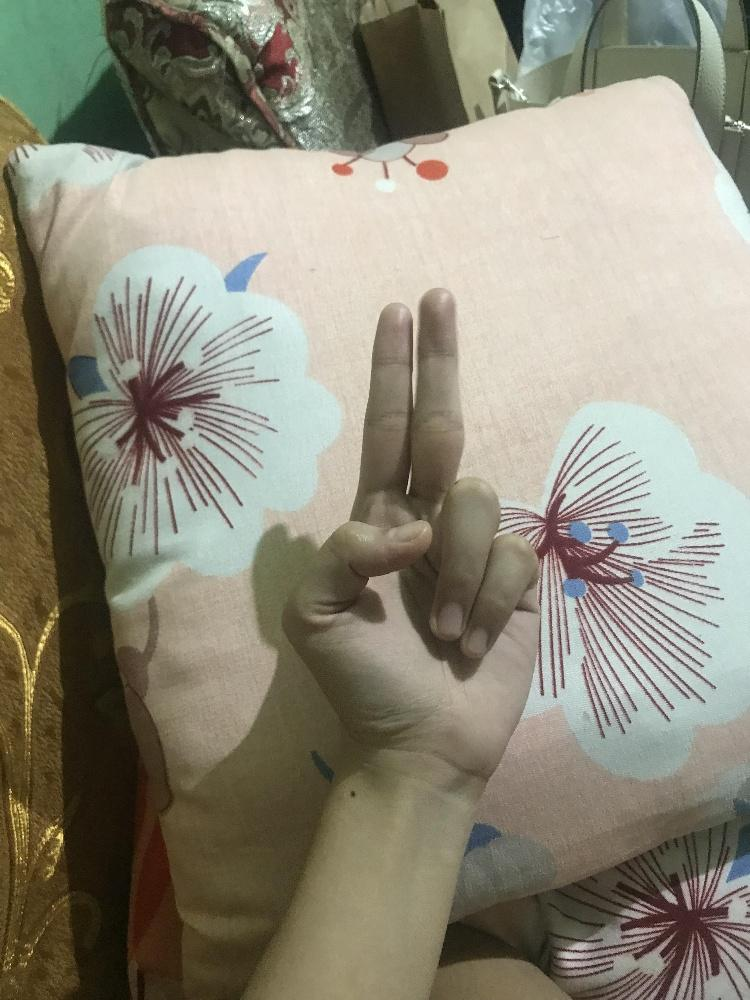u: (277, 283, 548, 776)
